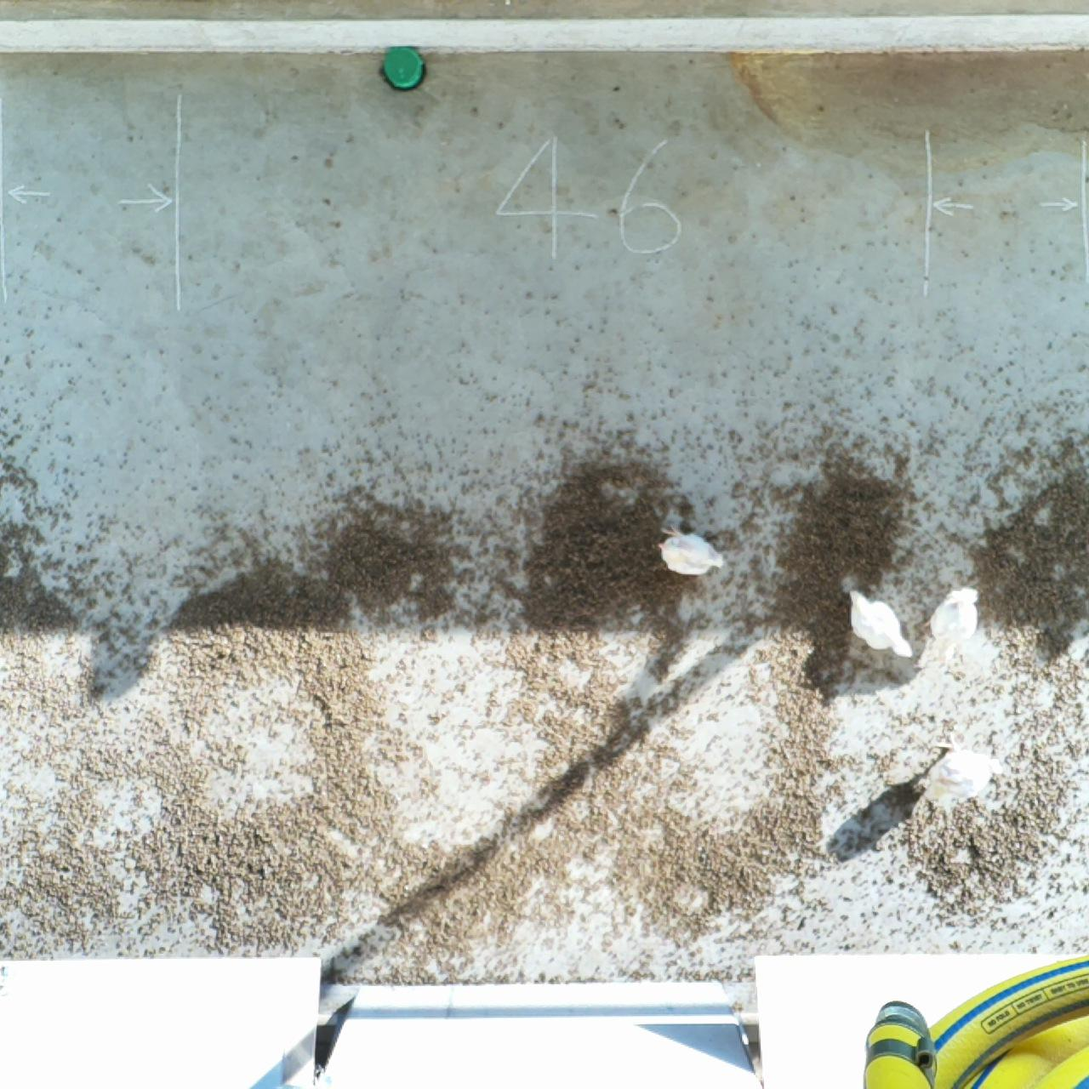chicken: (915, 746, 1007, 813), (840, 585, 915, 660), (927, 584, 984, 670), (656, 518, 727, 579)
